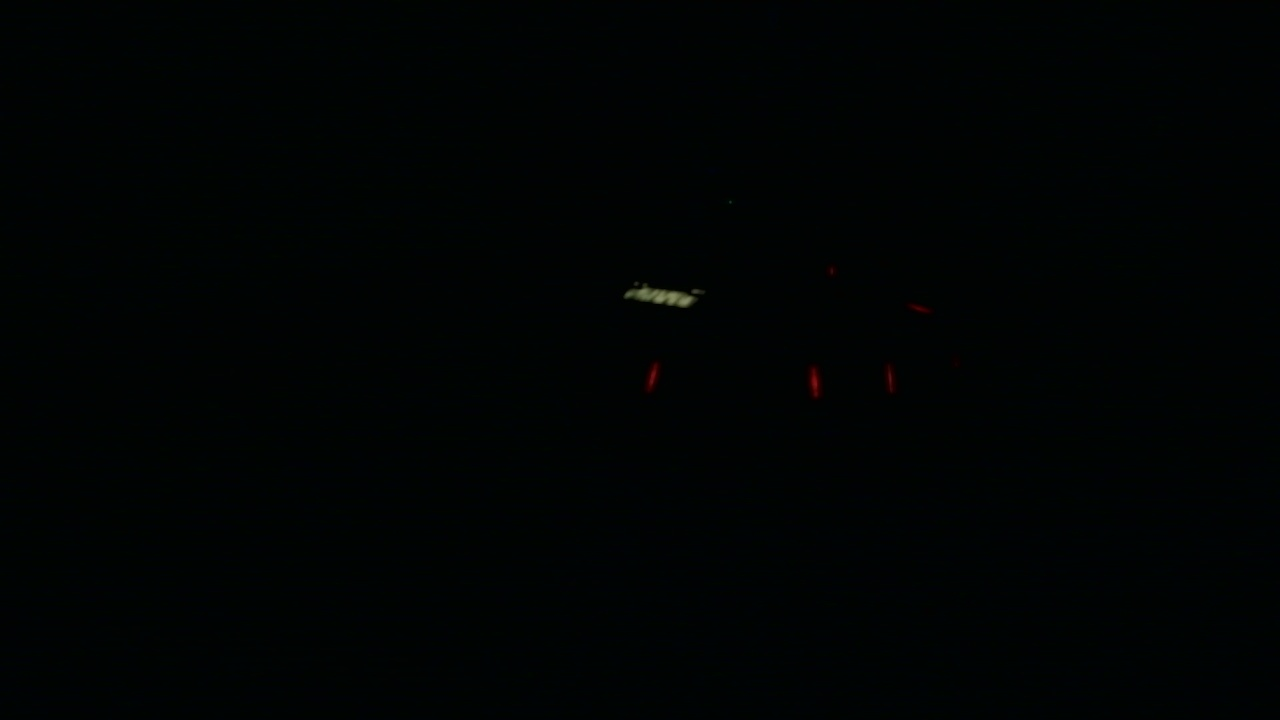lamp: (641, 358, 660, 404), (808, 365, 821, 399), (886, 364, 896, 392)
notpair1: (634, 359, 823, 403)
pair1: (808, 366, 897, 397)
